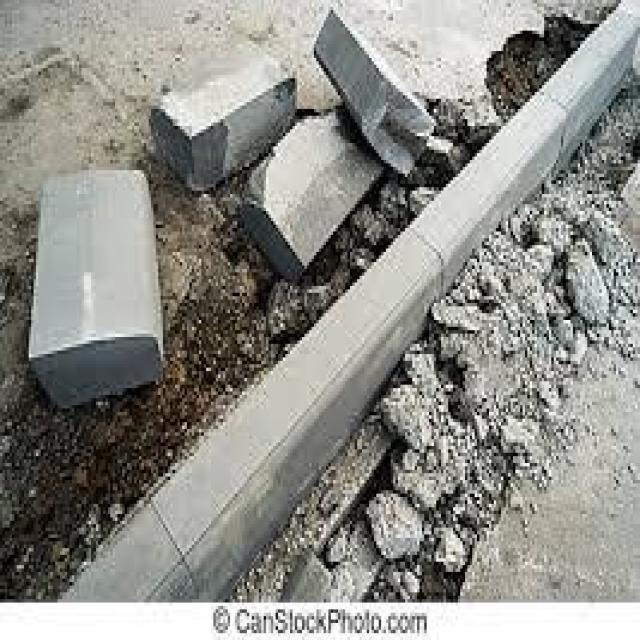bump: (65, 253, 416, 601)
hole: (247, 363, 458, 605), (458, 19, 594, 115)
